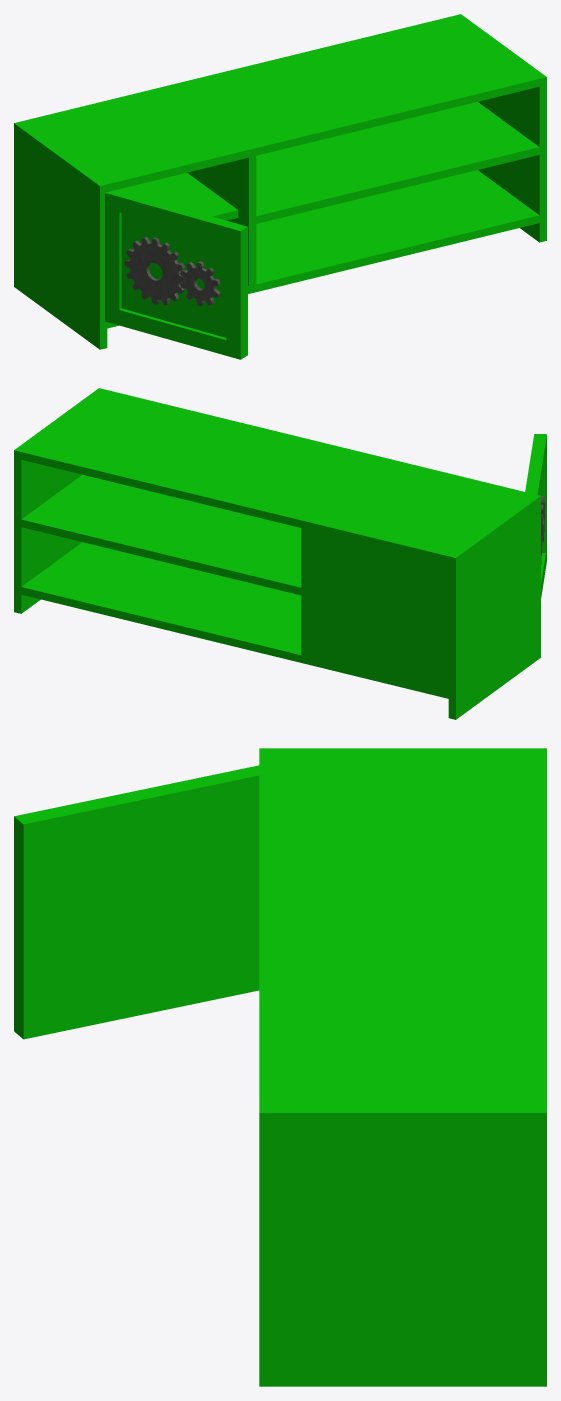
The picture shows the model from 3 angles, top to bottom: view 1: azimuth 30°, elevation 25°; view 2: azimuth 150°, elevation 25°; view 3: azimuth 270°, elevation 25°; orthographic projection. The views are drawn at different scales.
Visible parts, largest first — view 1: 69281, 69282, 69304, 69279, 69284, 69199, 69280, 69283, 16 Tooth Gear, 69305, 10 Tooth Gear; view 2: 69281, 69282, 69476, 69304, 69279, 69280, 69305, 69283, 69284, 69199; view 3: 69281, 69280, 69199, 69284.
Part boxes in pixels (<box>): 69281: <box>14,14,546,193</box>; 69282: <box>107,170,539,328</box>; 69304: <box>256,102,539,223</box>; 69279: <box>14,131,107,349</box>; 69284: <box>105,192,242,359</box>; 69199: <box>109,189,247,357</box>; 69280: <box>478,85,546,242</box>; 69283: <box>187,156,256,285</box>; 16 Tooth Gear: <box>124,237,184,305</box>; 69305: <box>118,172,238,220</box>; 10 Tooth Gear: <box>180,261,220,306</box>; 69281: <box>14,388,540,565</box>; 69282: <box>21,542,448,698</box>; 69476: <box>308,530,448,690</box>; 69304: <box>21,474,301,595</box>; 69279: <box>448,504,540,719</box>; 69280: <box>14,458,82,613</box>; 69305: <box>308,590,448,631</box>; 69283: <box>301,528,308,656</box>; 69284: <box>533,434,546,597</box>; 69199: <box>525,434,542,493</box>; 69281: <box>259,748,546,1125</box>; 69280: <box>259,1126,546,1386</box>; 69199: <box>17,769,259,1039</box>; 69284: <box>14,765,259,1033</box>.
Size of the model in its own units: 1.2 by 0.42 by 0.7414.
1163 materials, 1102 textured.
